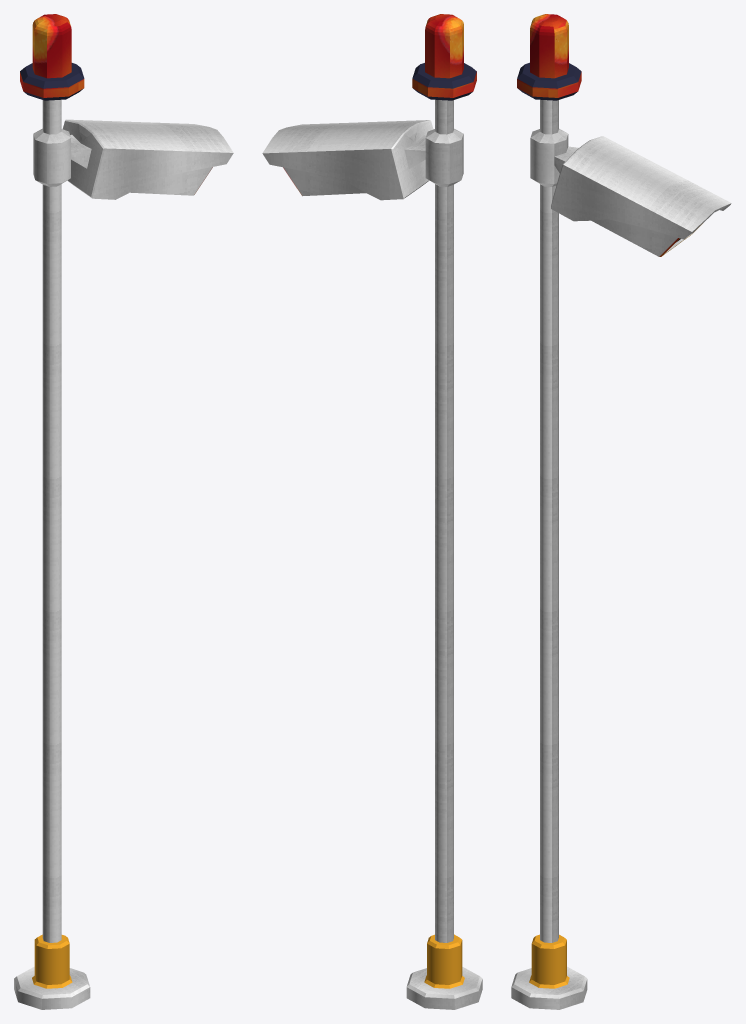
Rendered from group_camera_1.obj.
3 renders of one model, left to right at view 1: azimuth 30°, elevation 25°; view 2: azimuth 150°, elevation 25°; view 3: azimuth 330°, elevation 25°, orthographic.
Visible parts, largest first — view 1: camera_2; view 2: camera_2; view 3: camera_2.
Boxes of the visible parts, x1,y1,x2,y2 form: camera_2: [14, 14, 233, 1009]; camera_2: [262, 14, 482, 1009]; camera_2: [511, 14, 731, 1009].
Bounding box in the file's own units: 8.02 × 37.47 × 2.81.
5 materials, 3 textured.
